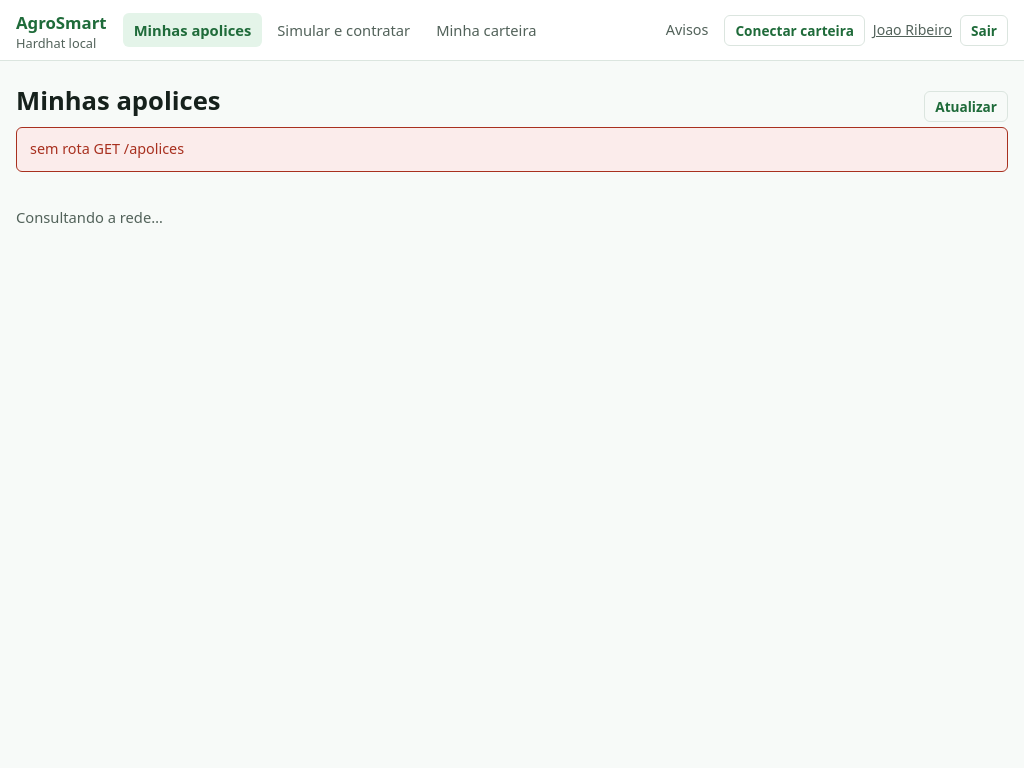
Scenario: autenticacao e perfis › sair encerra a sessao no servidor e localmente
Click the button "Sair".
click(984, 30)  # box [960,14,1008,46]
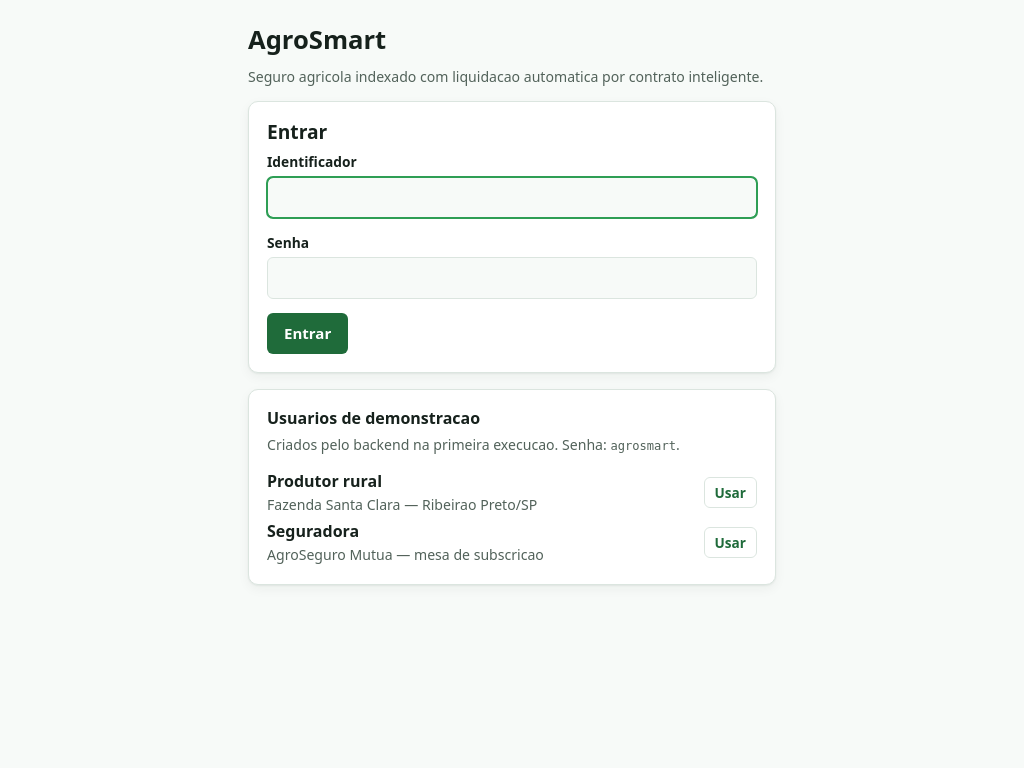
Expected: the field labelled "Identificador" is shown, [267,177,757,218]
